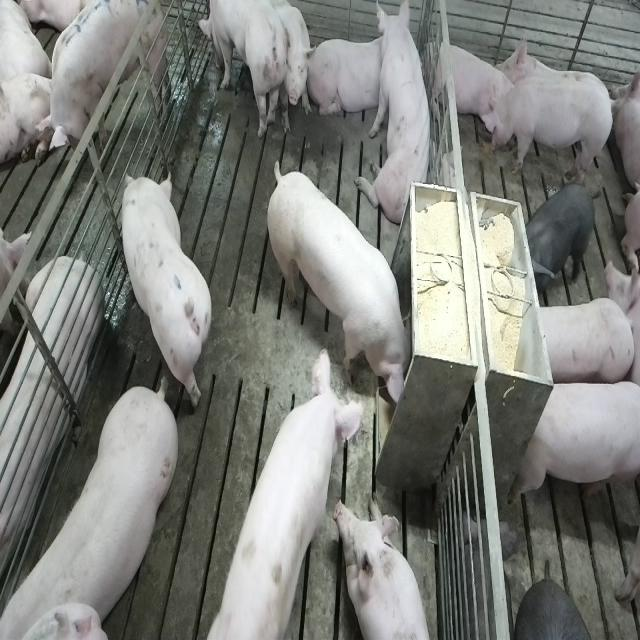Feeding: (202, 341, 370, 636), (271, 162, 421, 409)
Sitting: (358, 3, 437, 226), (194, 2, 314, 143)
Standing: (5, 375, 184, 634), (120, 170, 215, 414), (36, 0, 174, 160), (512, 378, 638, 525), (484, 79, 619, 183), (526, 296, 633, 388), (522, 178, 599, 284), (516, 575, 596, 638)
Sternal_lying: (0, 239, 101, 586), (337, 497, 438, 640), (429, 37, 512, 132), (309, 34, 390, 122)
